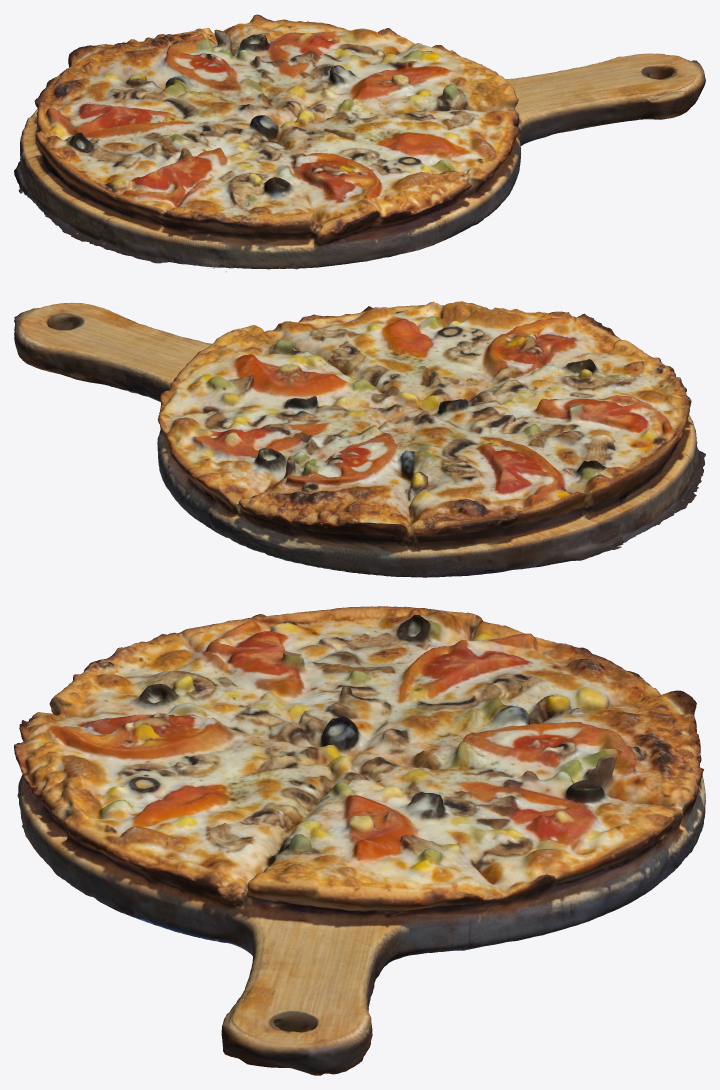
File: Pizza.Margarita.glb
The picture shows the model from 3 angles, top to bottom: view 1: azimuth 30°, elevation 25°; view 2: azimuth 150°, elevation 25°; view 3: azimuth 270°, elevation 25°; orthographic projection. The views are drawn at different scales.
Visible parts, largest first — view 1: 3DModel; view 2: 3DModel; view 3: 3DModel.
Part boxes in pixels (x1=…): 3DModel: x1=14, y1=14, x2=705, y2=272; 3DModel: x1=14, y1=301, x2=705, y2=577; 3DModel: x1=14, y1=606, x2=705, y2=1075.
Bounding box in the file's own units: 0.3655 × 0.0353 × 0.2541.
1 material, 1 textured.
